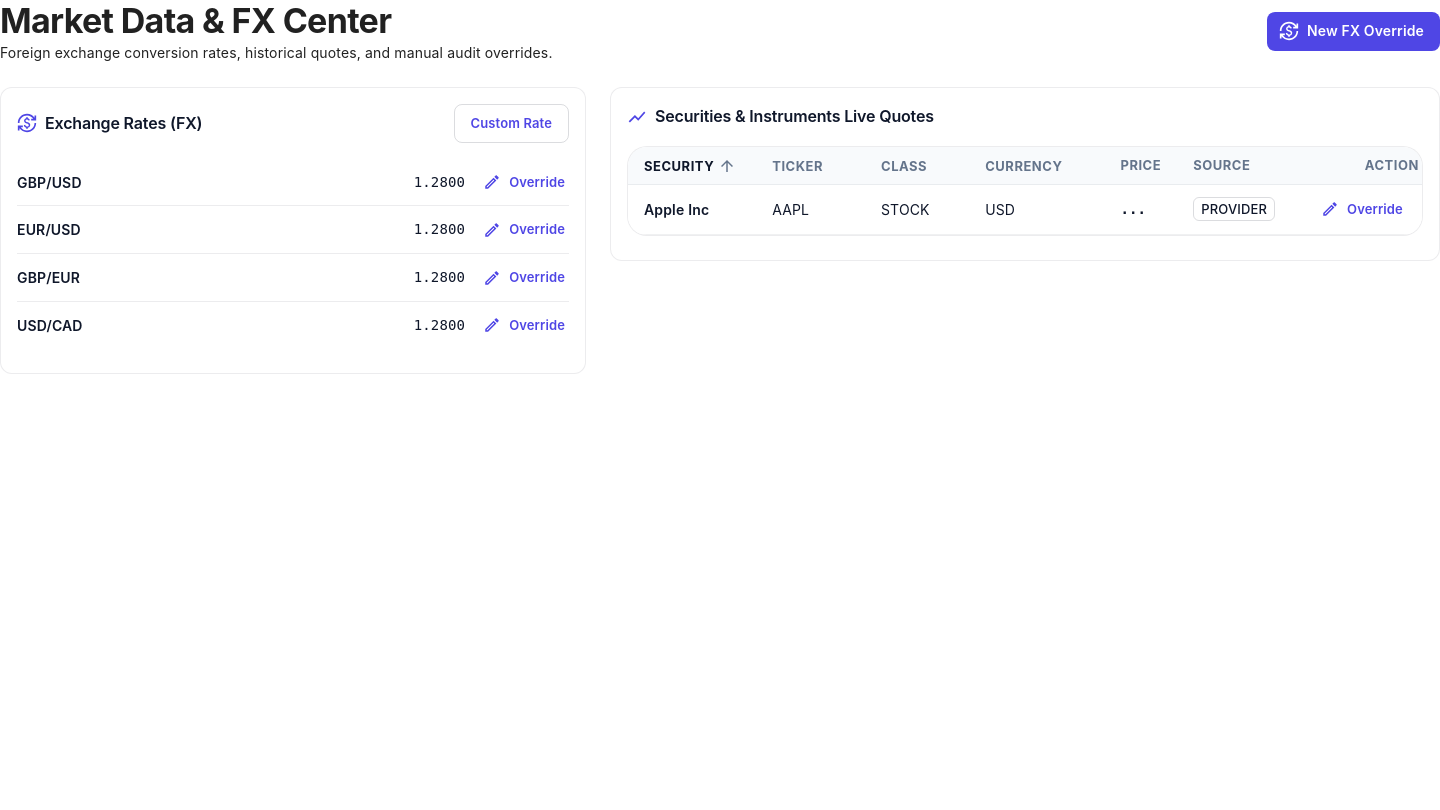
Scenario: Feature Pages › renders MarketRatesPage with FX rates and instrument live quotes
Expected: the heading "Market Data & FX Center" is shown, [0, 0, 391, 41]
Expected: the heading "Exchange Rates (FX)" is shown, [45, 111, 202, 136]
Step 1. Click the button "New FX Override" → click(1354, 31), box [1267, 12, 1439, 51]
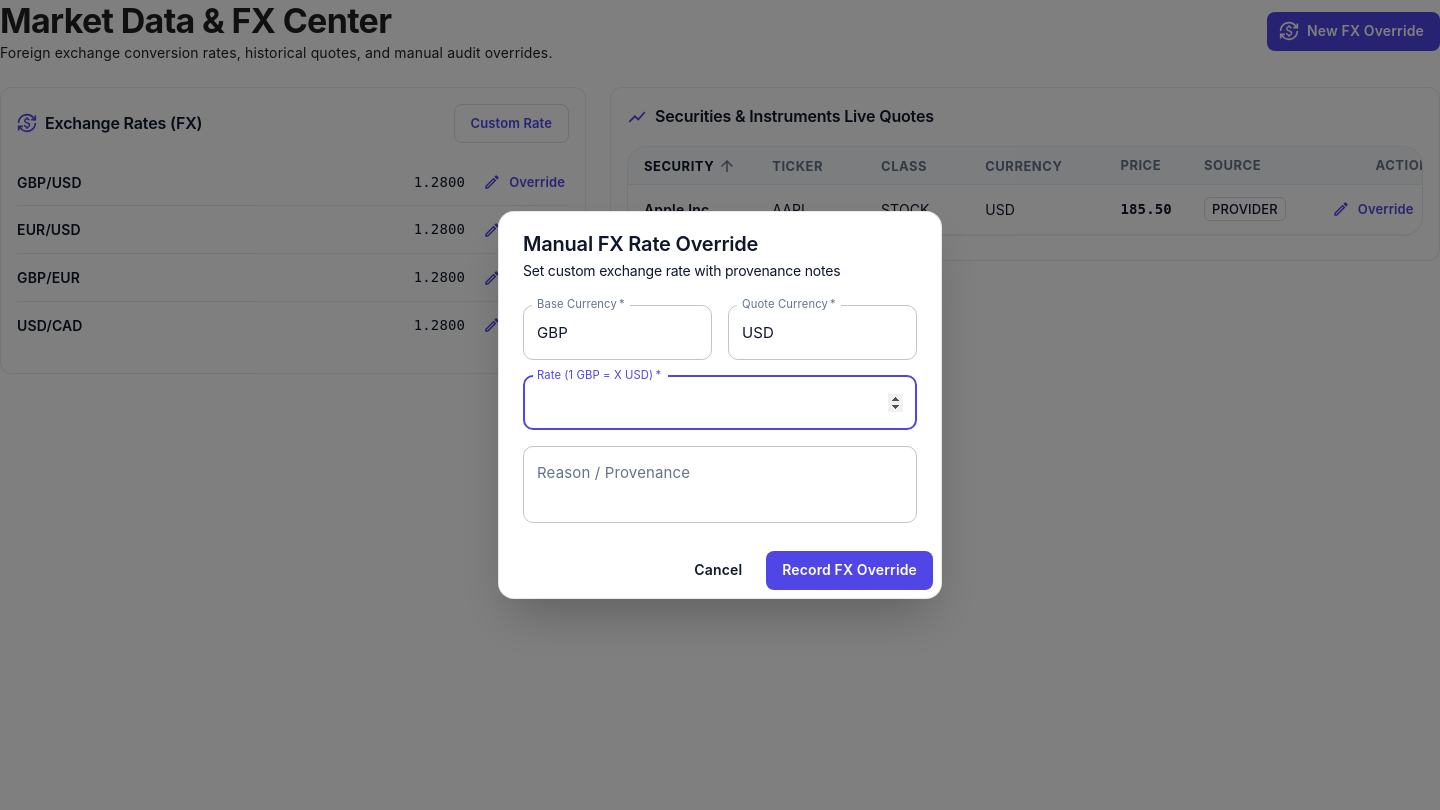
Expected: the heading "Manual FX Rate Override" is shown, [523, 232, 758, 256]
